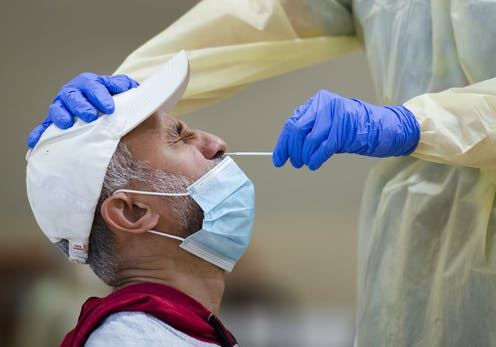Gloves: (271, 89, 422, 175), (24, 68, 142, 156)
mask_weared_incorrect: (162, 118, 255, 271)
